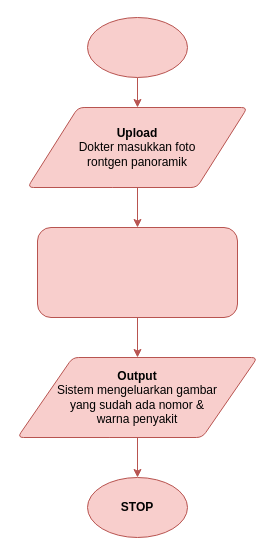
The diagram is 275 pixels wide and 555 high, and some of its shapes have lost their labels. The shapes that lost their labels are listed below. From the top down, each one's centre as x and y in pixels, then its label:
(x=137, y=47): START
(x=137, y=272): Sistem Memproses Citra Melakukan ekstraksi fitur, enumerasi, dan segmentasi
